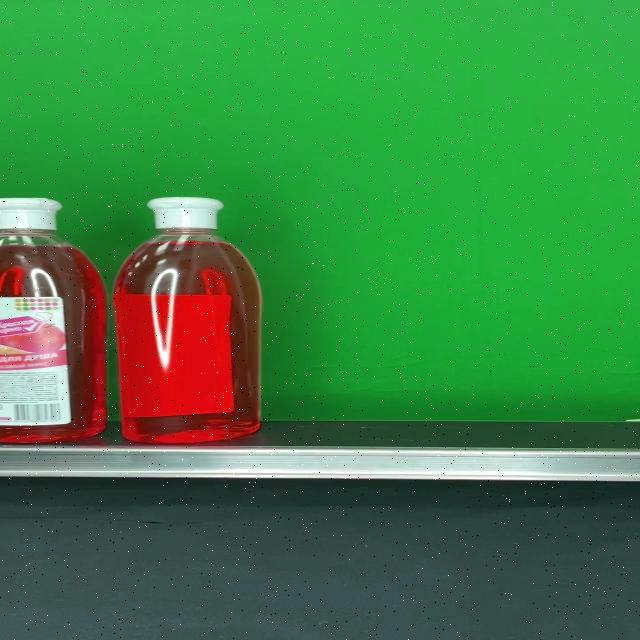Bottle: (115, 198, 260, 442)
Cap: (147, 198, 226, 230)
